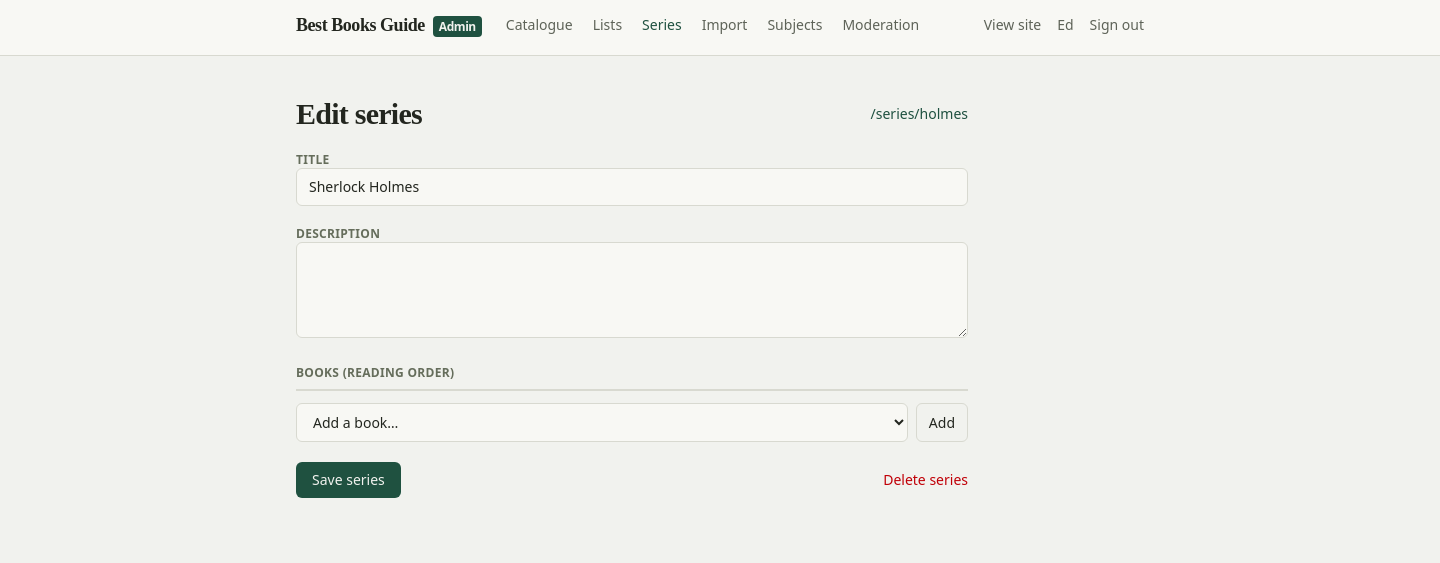
it: SeriesBuilderPage › adds a book to the series and saves the order
Select "Moby-Dick" in the dropdown named "add book": [602, 422] box top-left (296, 403), bottom-right (908, 442)
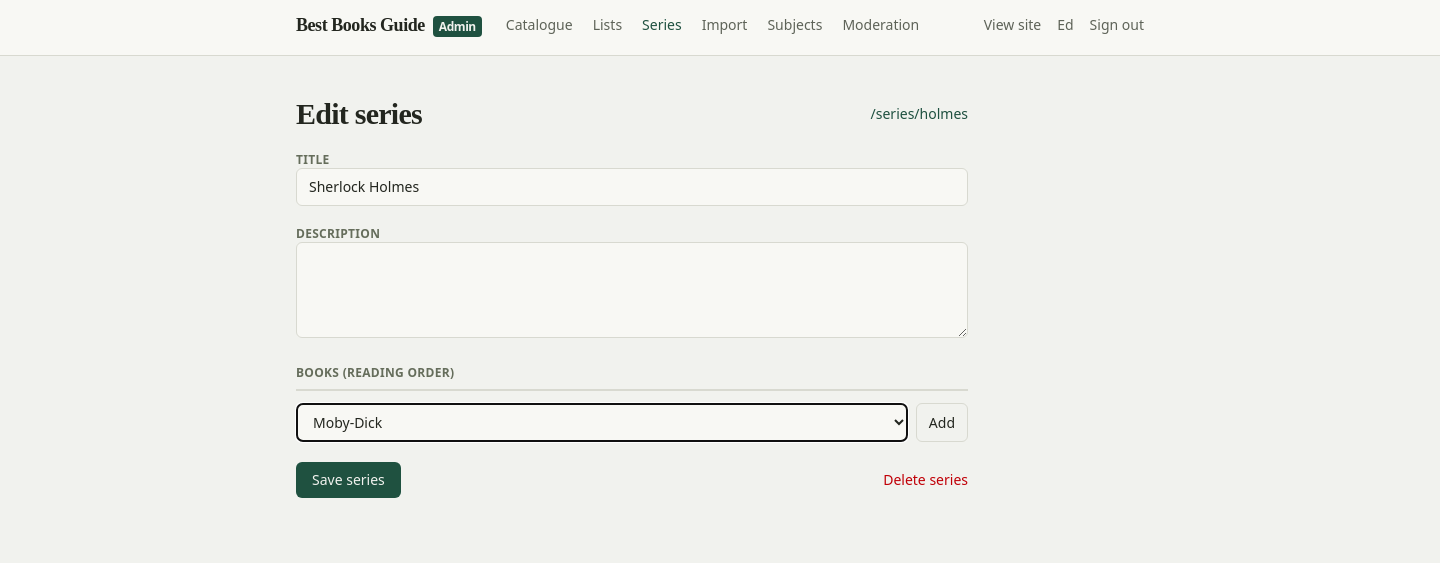
Click the button "Add": [942, 422] box top-left (916, 403), bottom-right (968, 442)
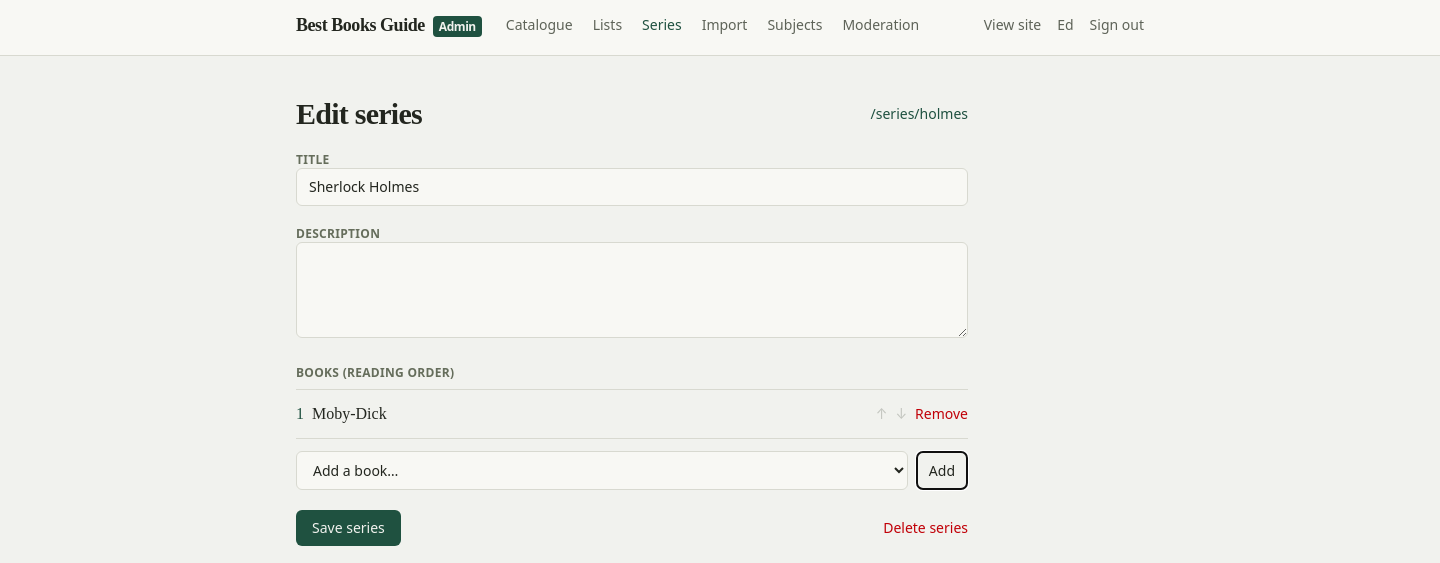
Click the button "Save series": [348, 528] box top-left (296, 510), bottom-right (401, 546)
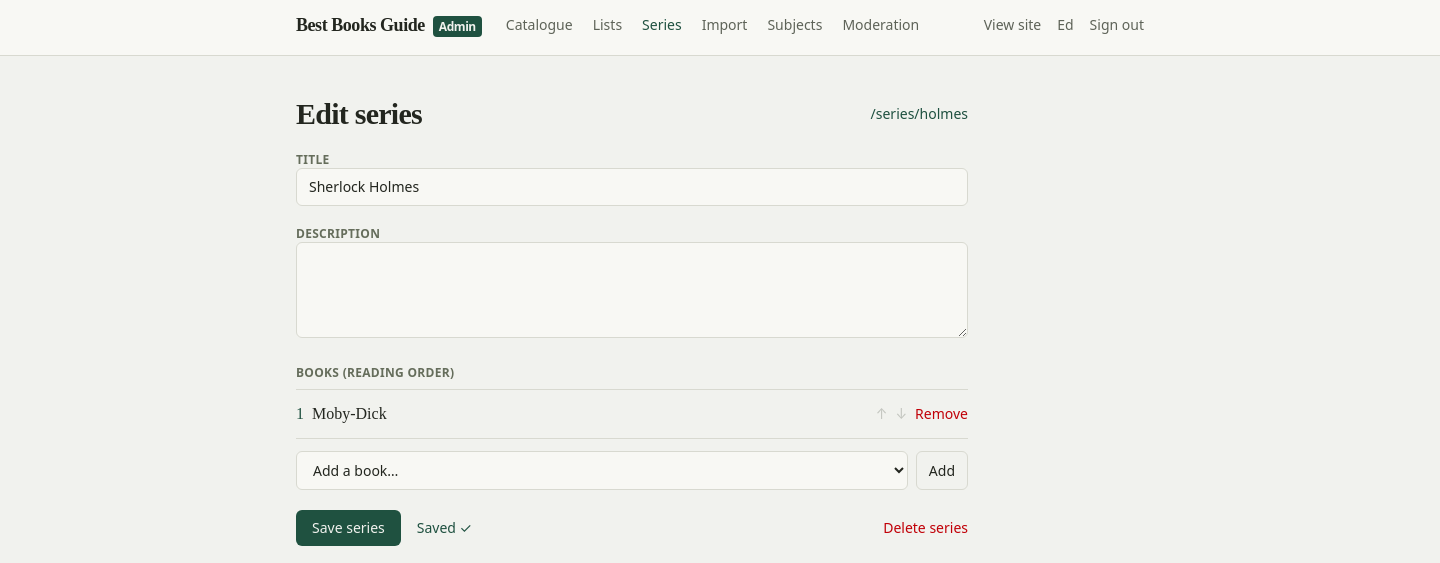
expect the text "Saved ✓" is shown: met, box top-left (417, 518), bottom-right (472, 538)
